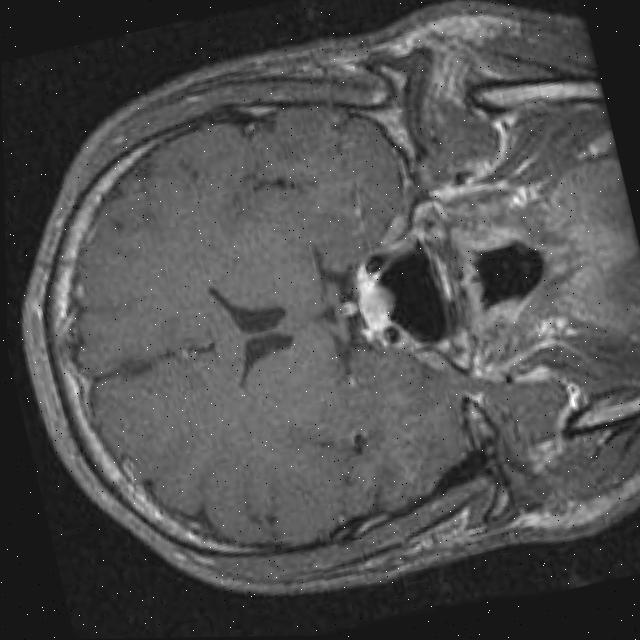Pituitary: (350, 269, 401, 331), (336, 296, 359, 320)
